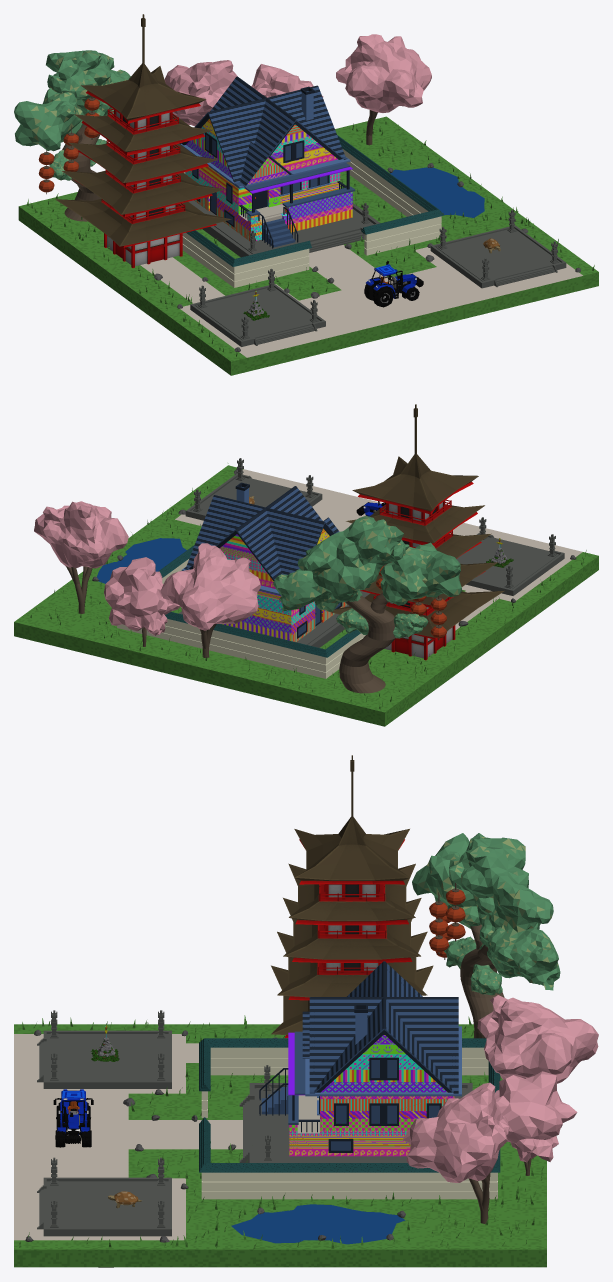
3 views of the same model, one above another, from view 1: azimuth 30°, elevation 25°; view 2: azimuth 150°, elevation 25°; view 3: azimuth 270°, elevation 25° (orthographic). The views are drawn at different scales.
Visible parts, largest first — view 1: Cube.005, Cube.676, VEHICLES_TRACTOR; view 2: Cube.005, Cube.676; view 3: Cube.005, Cube.676, VEHICLES_TRACTOR.
Boxes of the visible parts, <box> form: Cube.005: <box>14,14,598,375</box>; Cube.676: <box>179,76,355,248</box>; VEHICLES_TRACTOR: <box>364,260,423,307</box>; Cube.005: <box>14,404,598,726</box>; Cube.676: <box>181,482,347,641</box>; Cube.005: <box>14,755,598,1267</box>; Cube.676: <box>259,961,461,1156</box>; VEHICLES_TRACTOR: <box>53,1089,93,1147</box>.
Size of the model in its own units: 4528 by 2663 by 4389.
Materials: 46 (9 with a texture image).
